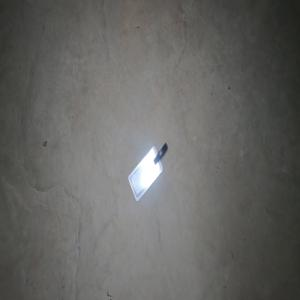LuggageTag: (126, 141, 168, 203)
